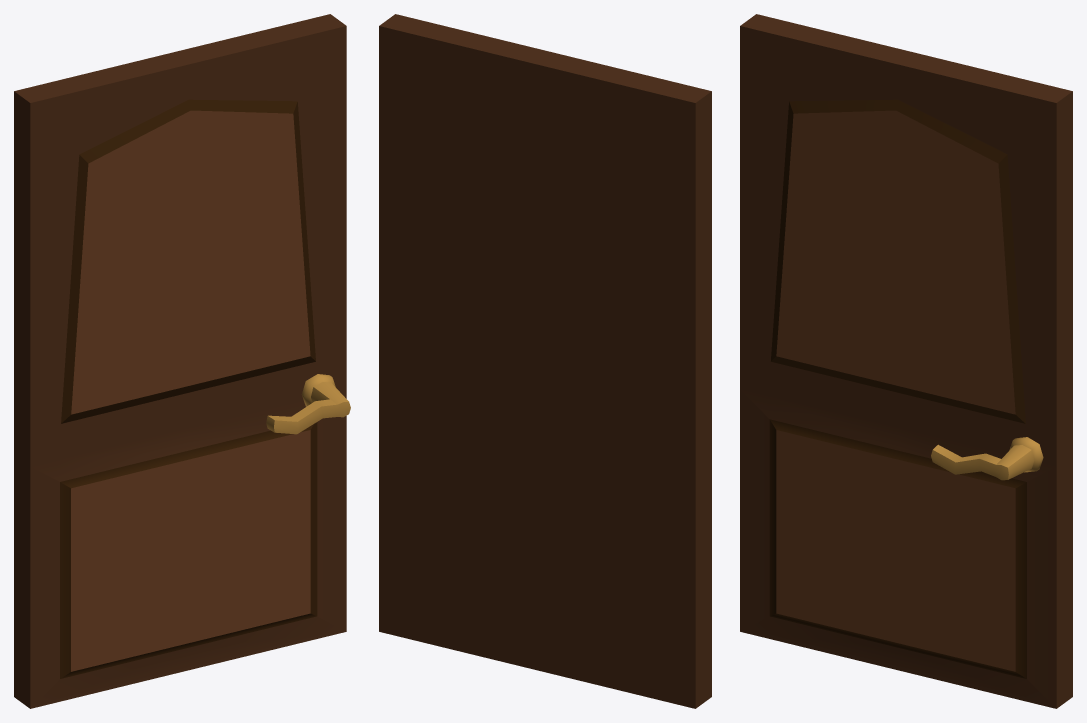
Rendered from Door.fbx.
The picture shows the model from 3 angles, left to right: view 1: azimuth 30°, elevation 25°; view 2: azimuth 150°, elevation 25°; view 3: azimuth 330°, elevation 25°; orthographic projection.
Visible parts, largest first — view 1: Door; view 2: Door; view 3: Door.
Part boxes in pixels (x1,y1,x2,y2): Door: [14, 14, 350, 708]; Door: [379, 14, 711, 708]; Door: [740, 14, 1072, 708].
Size of the model in its own units: 118 by 216 by 27.59.
